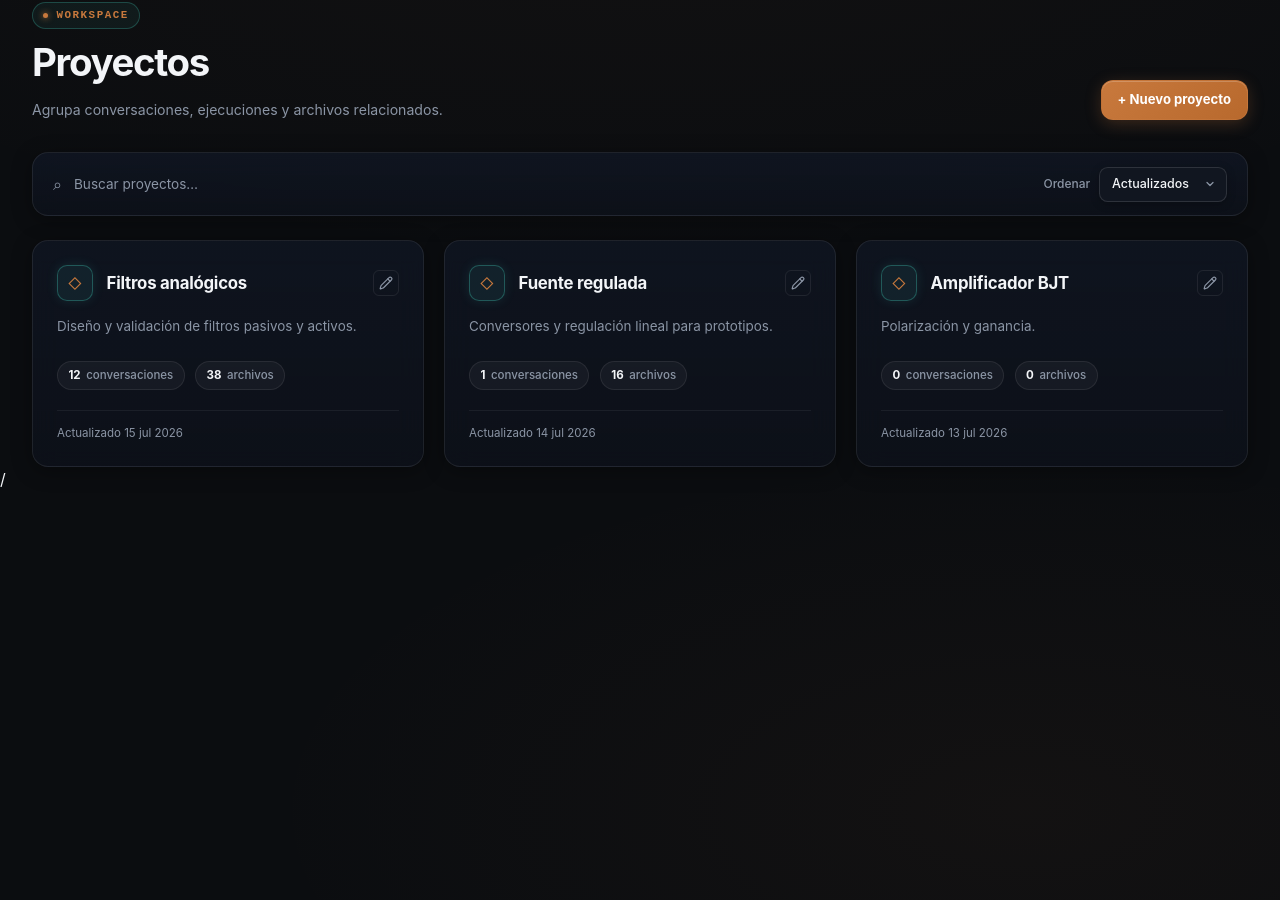
Test: validates creation errors without exposing service details
Expected: the element named "Lista de proyectos" is shown, [32,240,1248,467]
Click the button "+ Nuevo proyecto".
click(1174, 100)  # box [1100,80,1248,120]
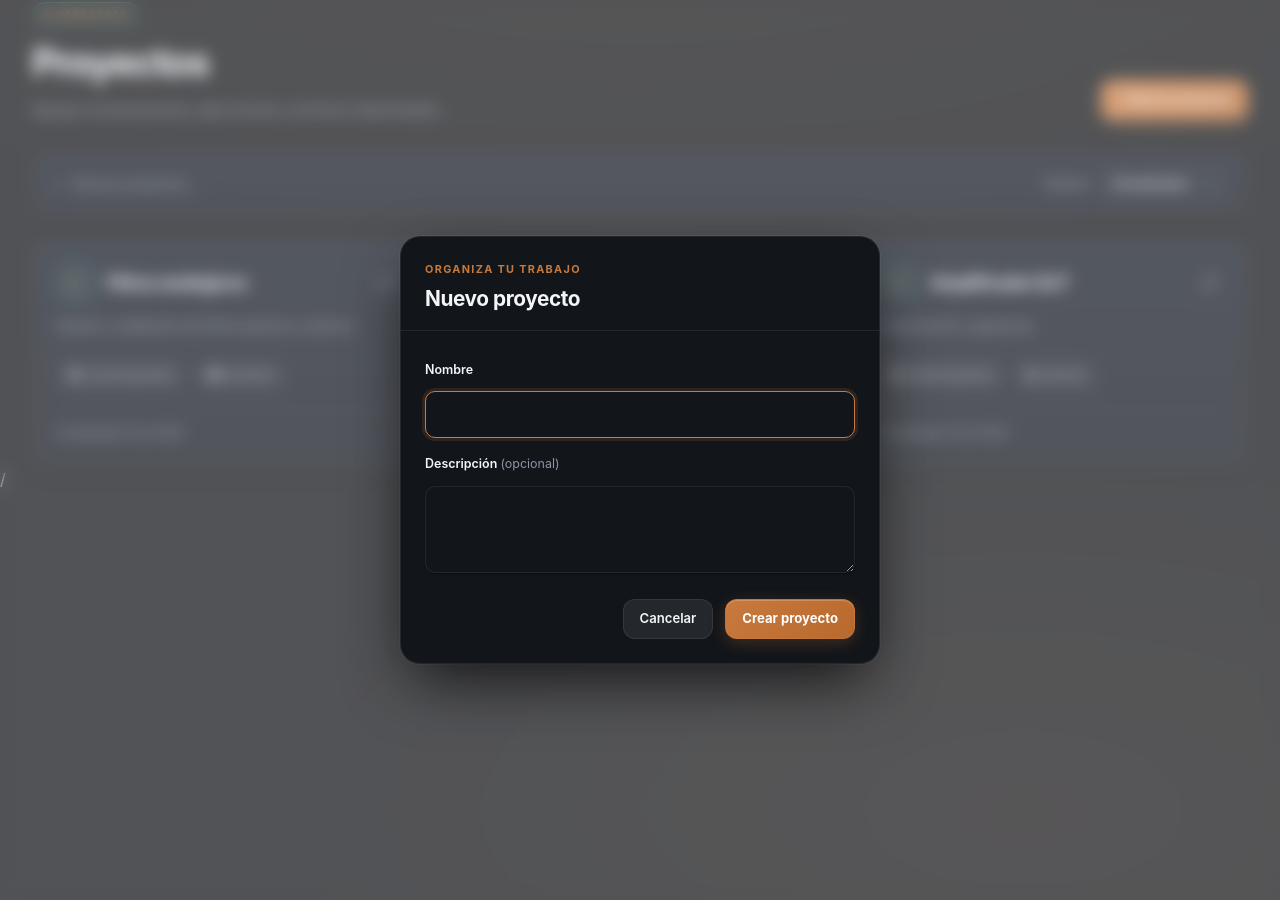
Click the button "Crear proyecto".
click(790, 619)  # box [725,599,855,639]
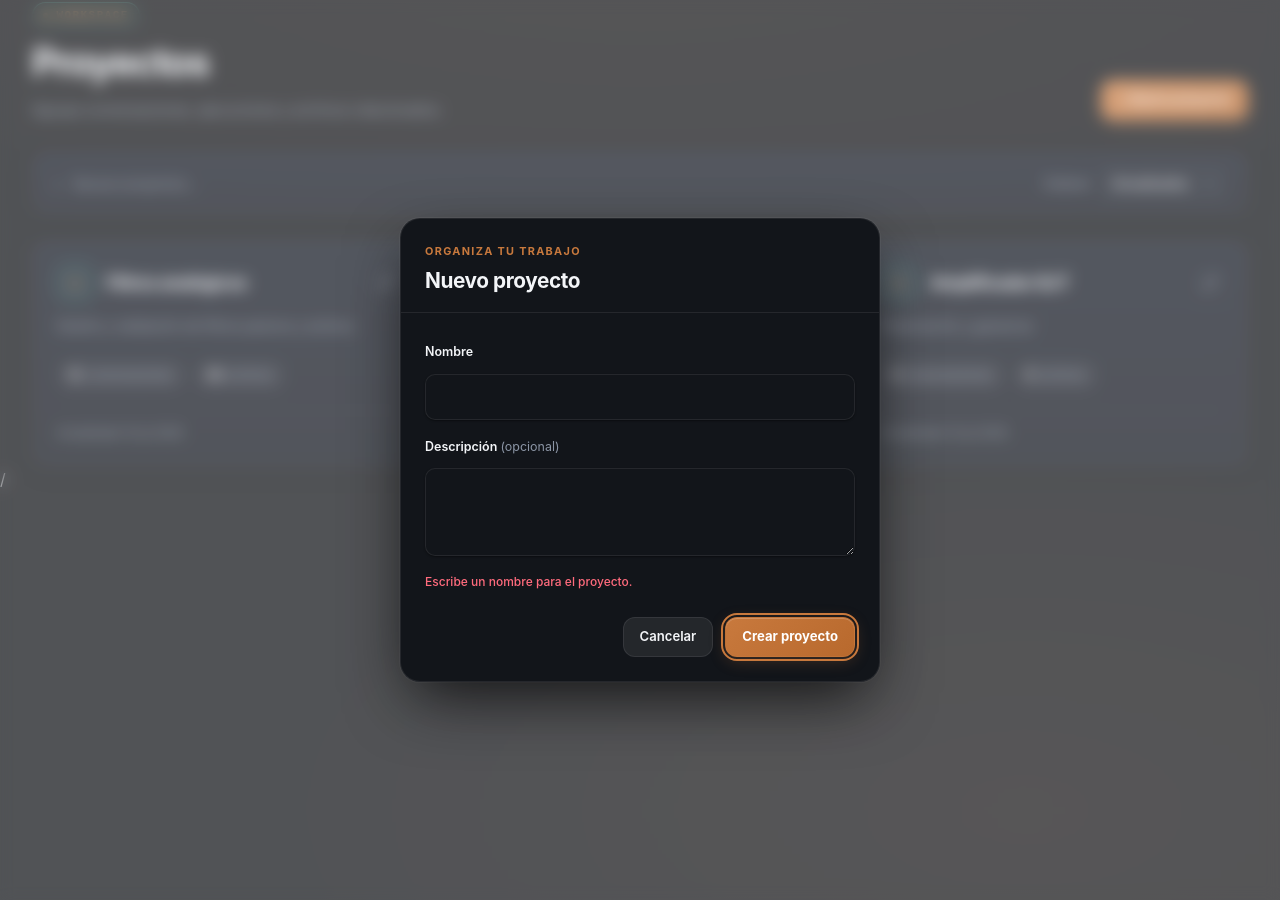
Expected: the message reads "Escribe un nombre para el proyecto.", [425,574,632,589]
Type "Sensores" into the field labelled "Nombre".
click(640, 397); type("Sensores")  # box [425,374,855,420]
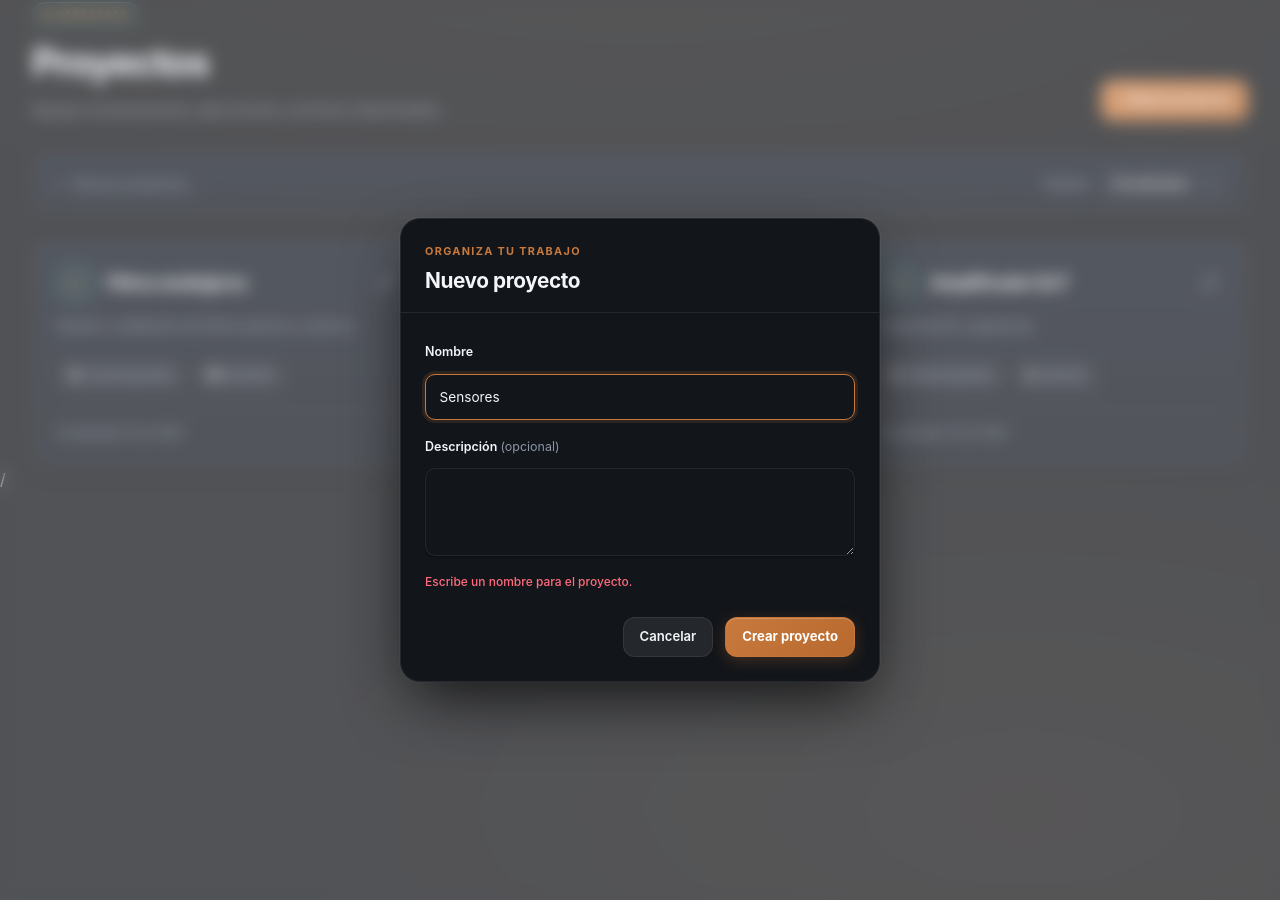
Click the button "Crear proyecto".
click(790, 637)  # box [725,617,855,657]
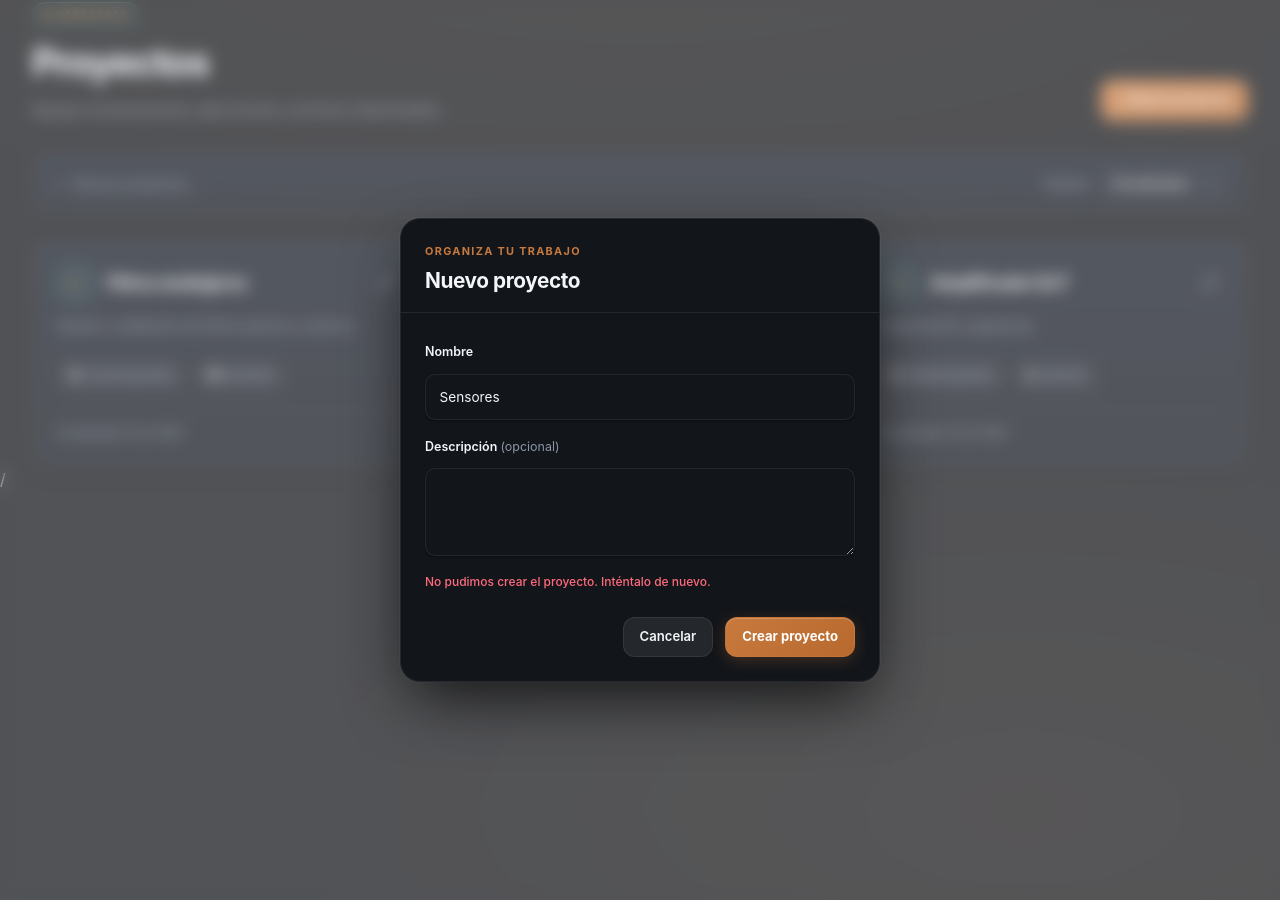
Expected: the message reads "No pudimos crear el proyecto. Inténtalo de nuevo.", [425,574,711,589]
